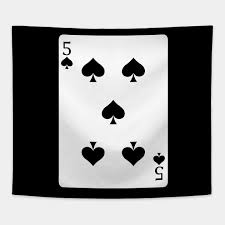five of spades: (60, 32, 170, 188)
